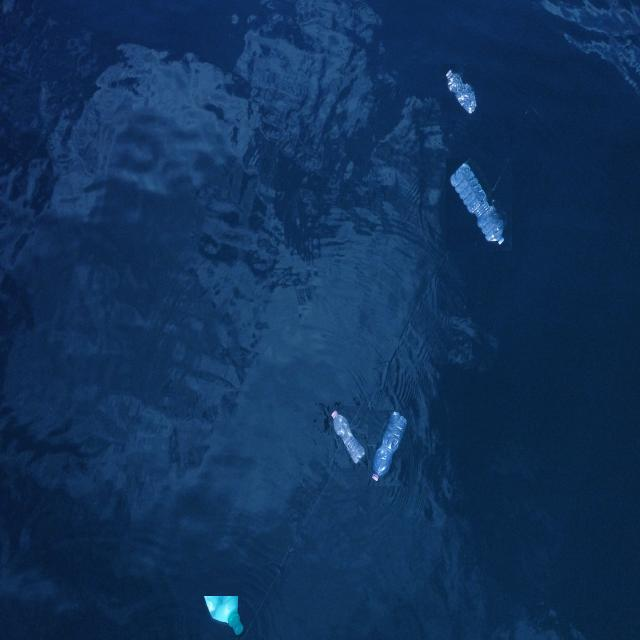bottles: (446, 158, 512, 251), (368, 410, 410, 486), (329, 406, 368, 468), (442, 64, 480, 120), (201, 596, 245, 640)
